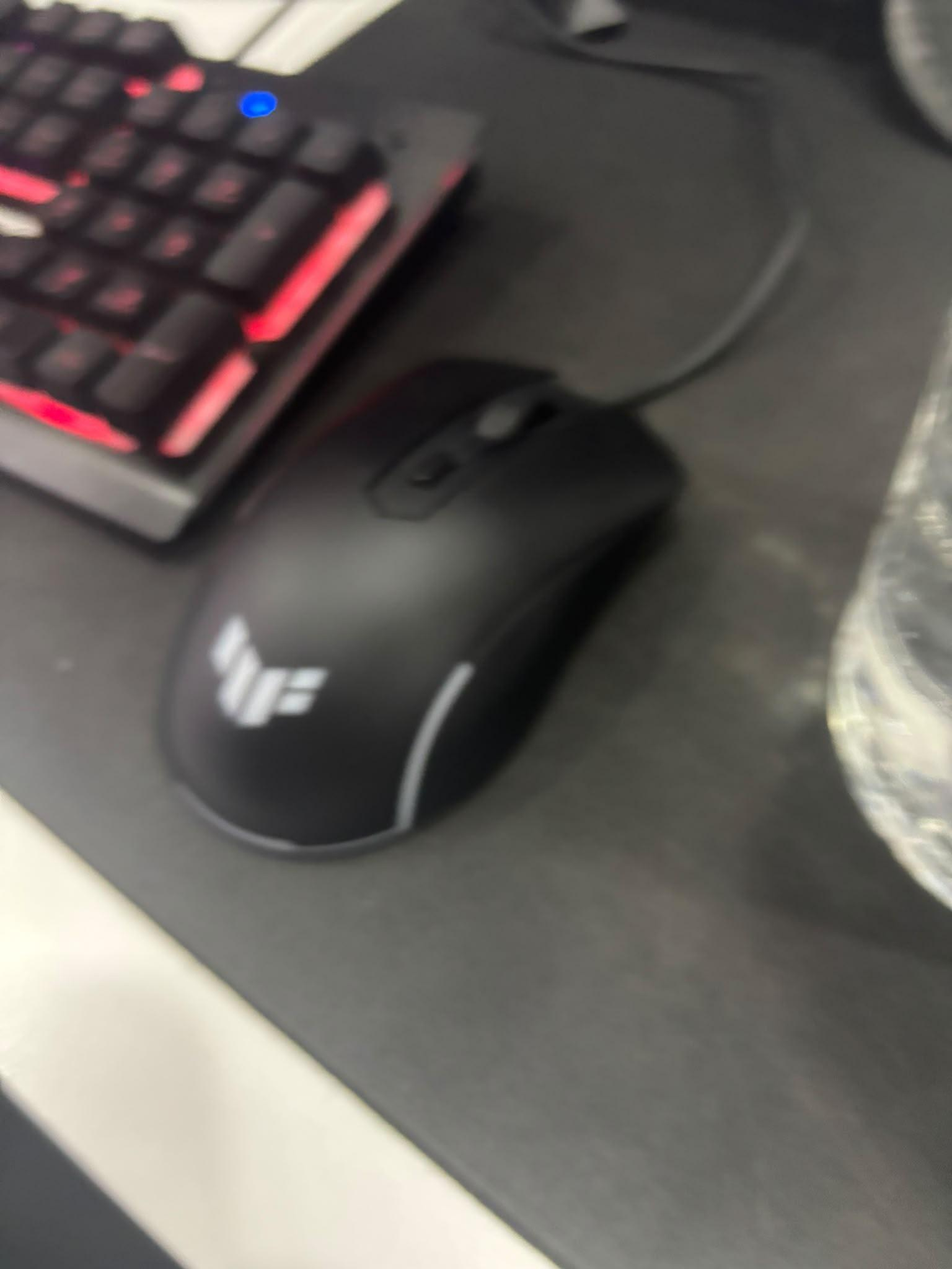cable: (516, 22, 821, 418)
keyboard: (0, 0, 482, 549)
mouse: (152, 356, 690, 863)
water bottel: (826, 239, 951, 910)
